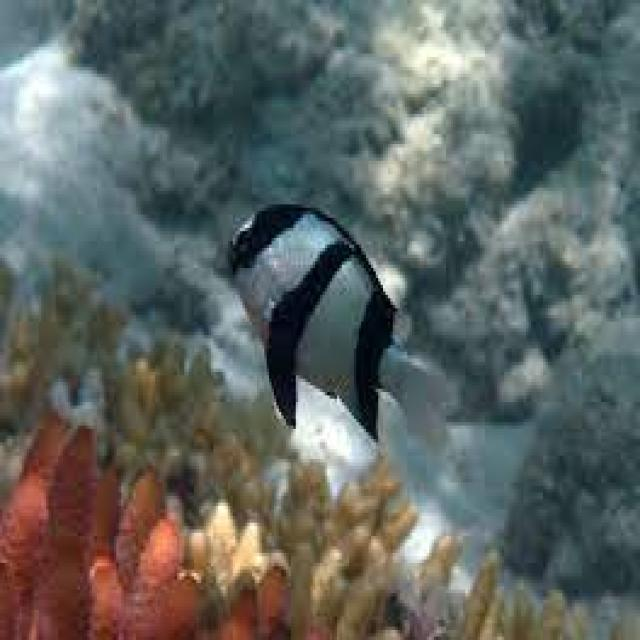ThreeStripedDamselfish: (225, 181, 460, 460)
